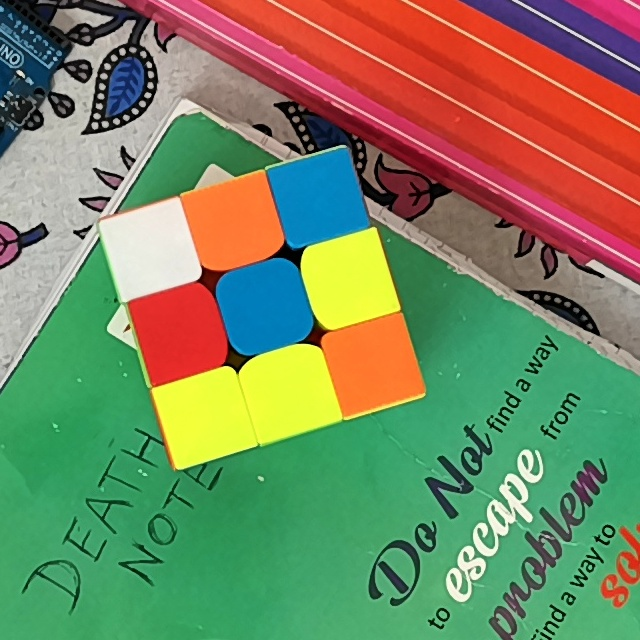tile: (198, 191, 265, 257), (284, 165, 352, 230), (256, 360, 325, 424), (339, 331, 405, 397), (147, 299, 211, 366), (231, 276, 297, 340), (172, 385, 239, 448), (317, 246, 381, 311), (115, 219, 182, 281)
